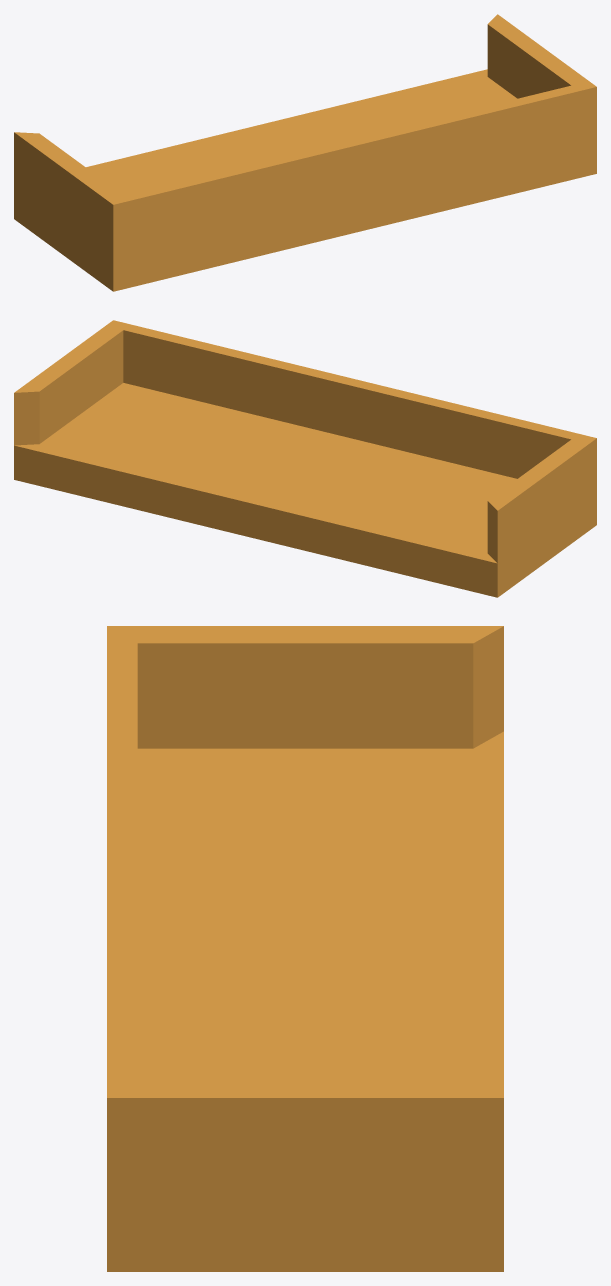
The model's file is SM_Balcon.fbx.
3 views of the same model, one above another, from view 1: azimuth 30°, elevation 25°; view 2: azimuth 150°, elevation 25°; view 3: azimuth 270°, elevation 25° (orthographic). The views are drawn at different scales.
Parts seen in each view (by area): view 1: SM_balcon; view 2: SM_balcon; view 3: SM_balcon.
Boxes of the visible parts, bbox=[...] form: SM_balcon: bbox=[14, 14, 596, 291]; SM_balcon: bbox=[14, 320, 596, 597]; SM_balcon: bbox=[107, 626, 503, 1271].
Bounding box in the file's own units: 363 × 62.33 × 129.
